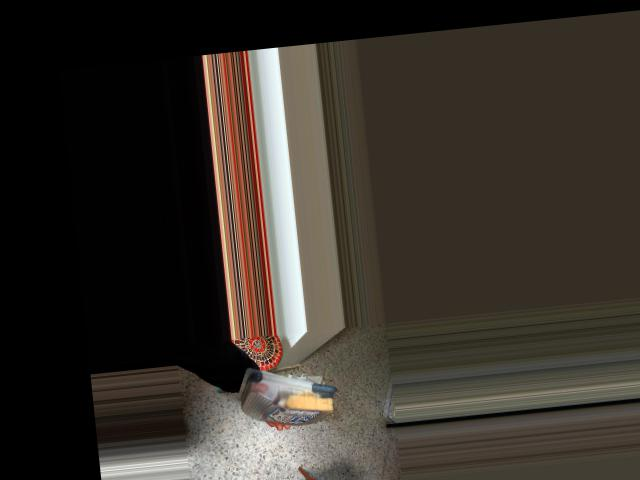cheese: (236, 351, 343, 431)
